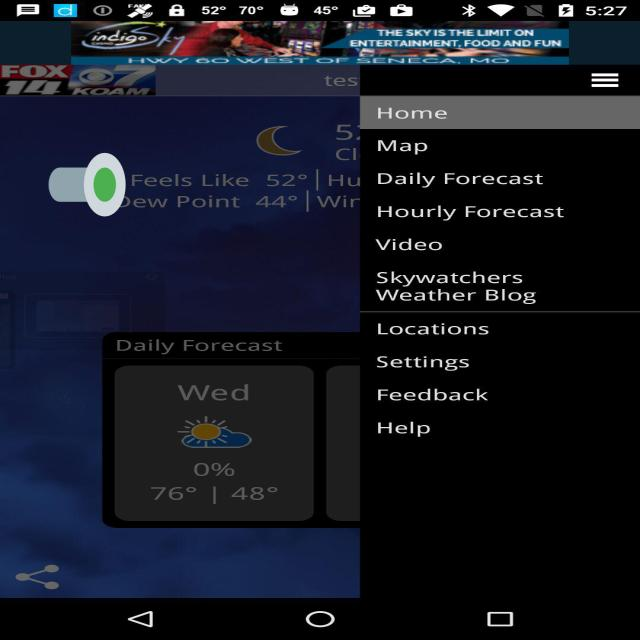social proof: (48, 126, 125, 243)
